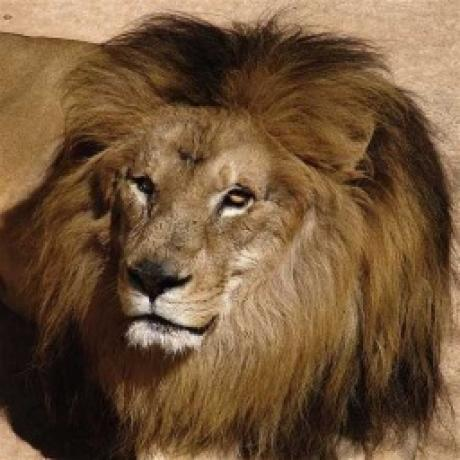Lion: (0, 11, 456, 460)
